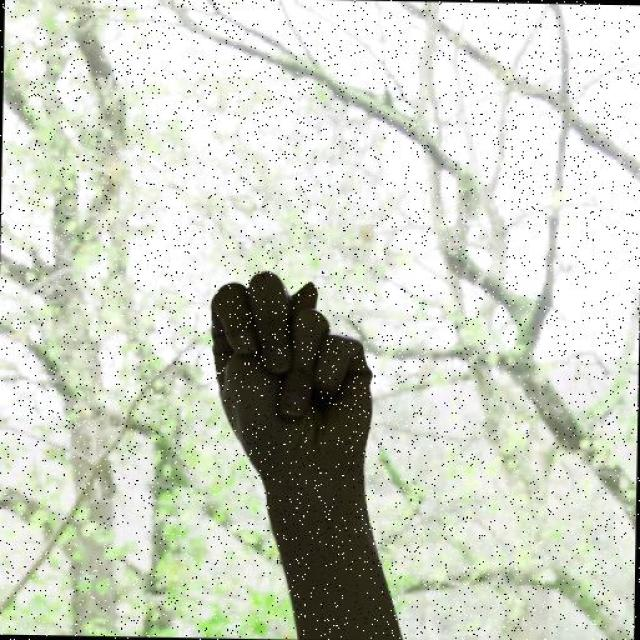N: (205, 268, 380, 488)
